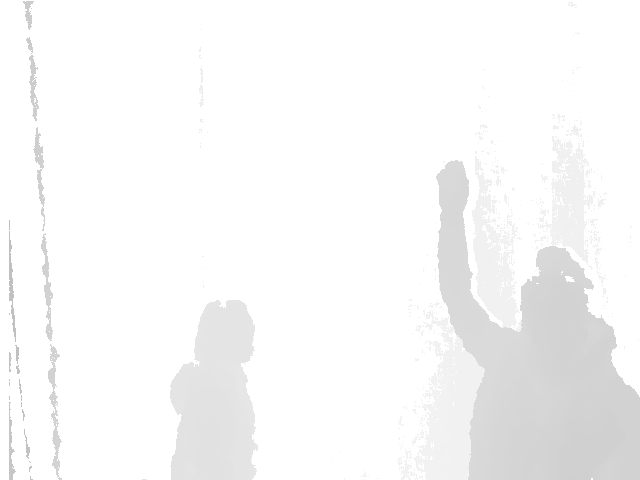hand: (435, 160, 470, 213)
head: (516, 245, 595, 353), (194, 299, 254, 363)
person: (435, 160, 640, 480), (168, 299, 259, 480)
